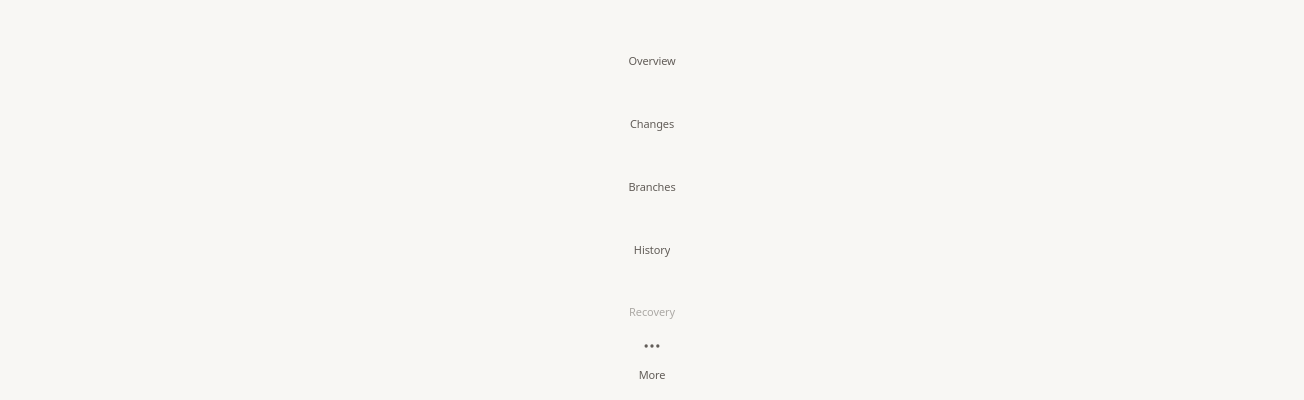
Scenario: RailNav › keeps More useful at full height through the navigation customization entry
The image size is (1304, 400).
What coordinates should you click on to do the following:
click the button "More"
I would click on:
 (652, 355)
Its box is [12, 326, 1292, 383].
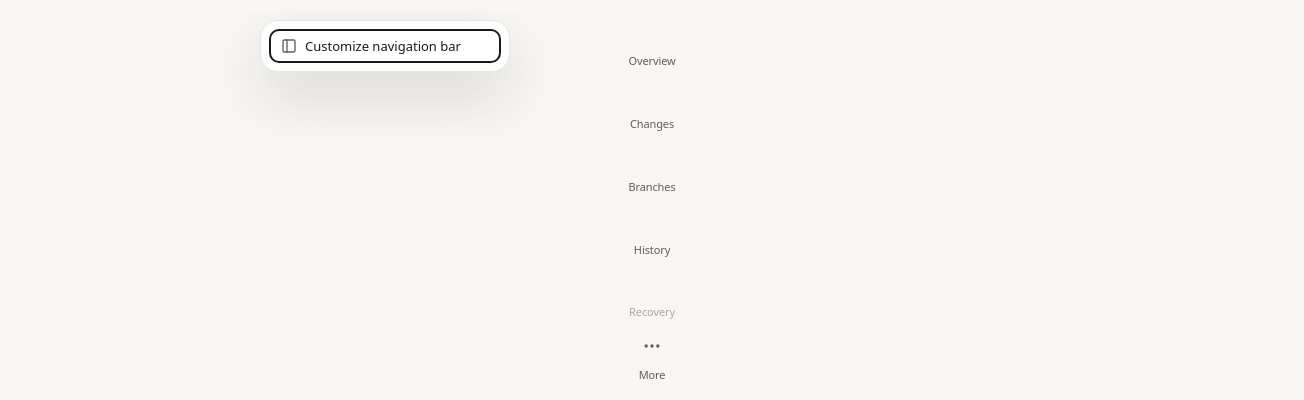
Expected: the number of menu items is 1
What coordinates should you click on to do the following:
click the menu item "Customize navigation bar"
I would click on:
 (385, 46)
Its box is [269, 29, 501, 63].
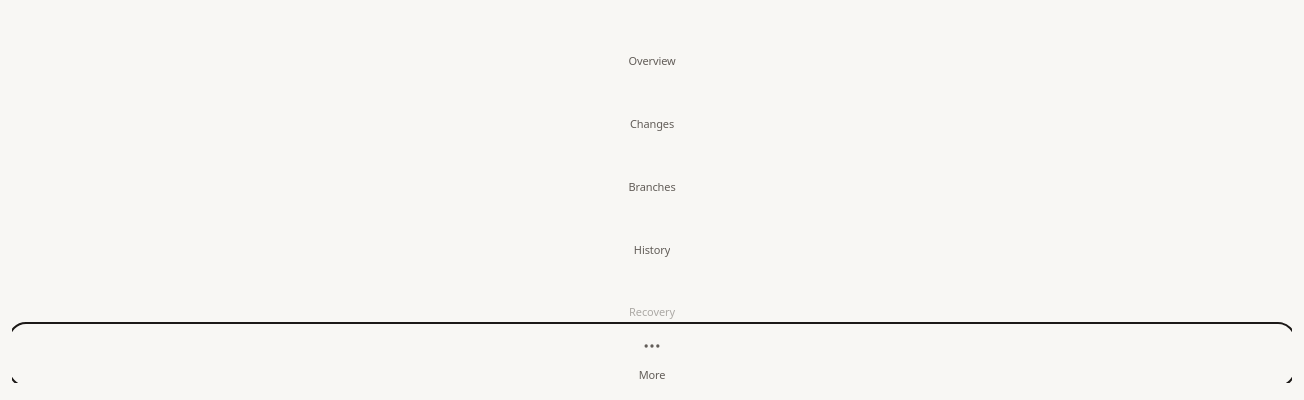
Expected: the menu "Customize navigation bar" is gone
